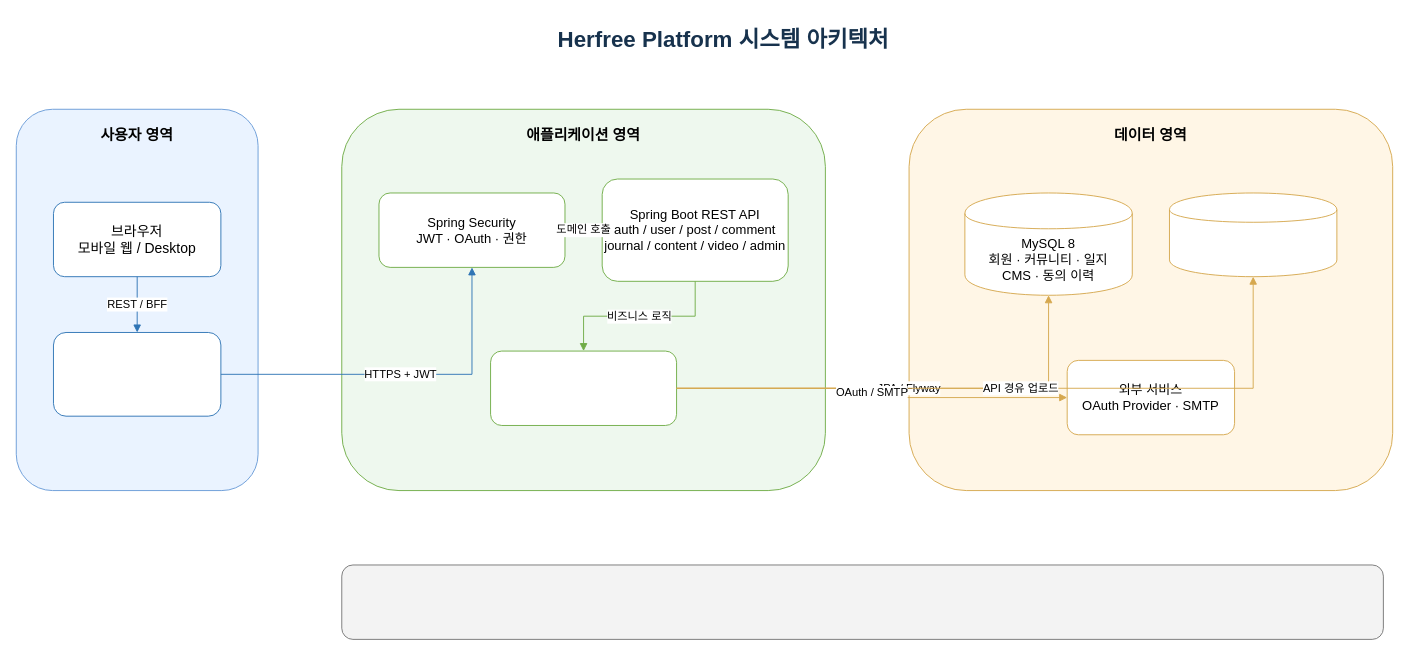
This 1409x656 diagram has some shape labels left out. The centre of each missing label's shape, as x and y in pixels:
AWS S3 게시글 이미지: the point at 1253,234
Next.js App Router 화면 · Hooks · BFF Proxy: the point at 137,374
도메인 Service Controller → Service → Repository: the point at 583,387
배포 기준안 Amplify / Next.js → EC2 Nginx → Spring Boot → private RDS: the point at 862,601
